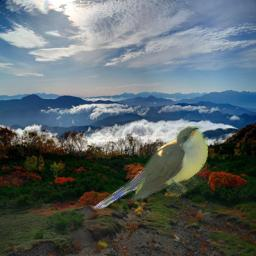Cuckoo: (92, 126, 208, 209)
